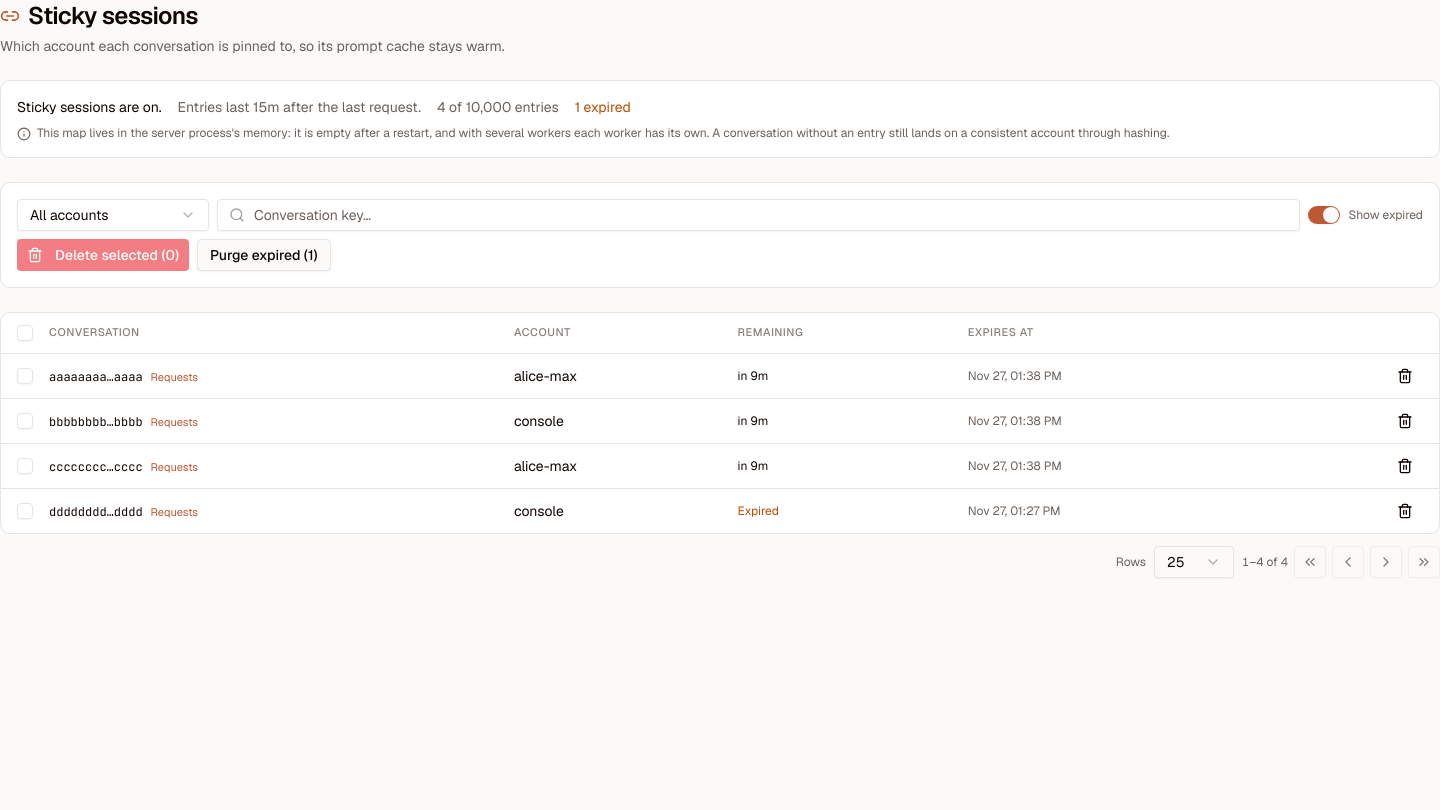
StickySessionsPage › deletes one entry after confirmation
Expected: the table with test id "sticky-table" is shown, [1,313,1439,532]
Click the button named "Delete bbbbbbbb…bbbb" at (1405,420), box [1387,406,1423,434]
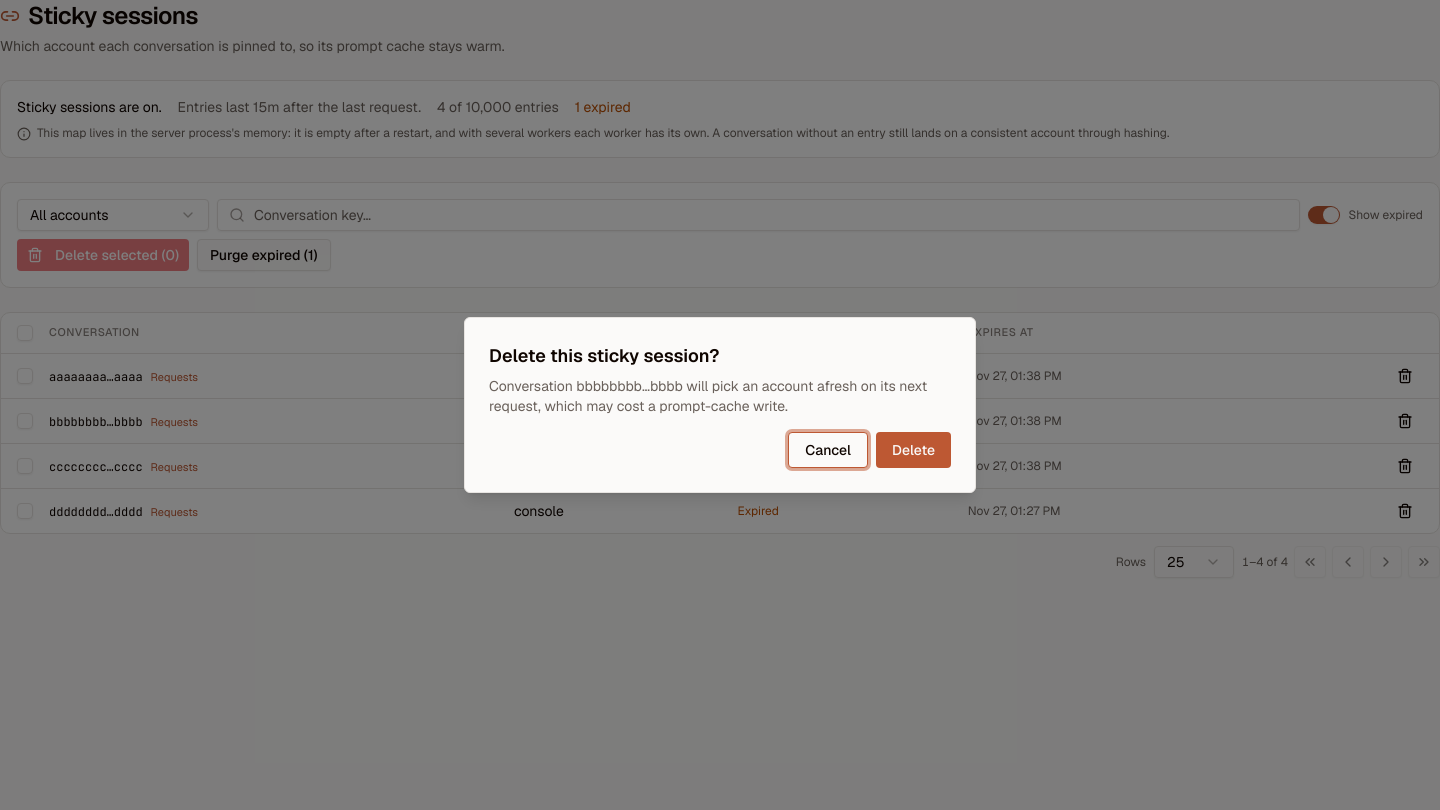
Click the button "Delete" at (913,450), box [876,432,951,468]
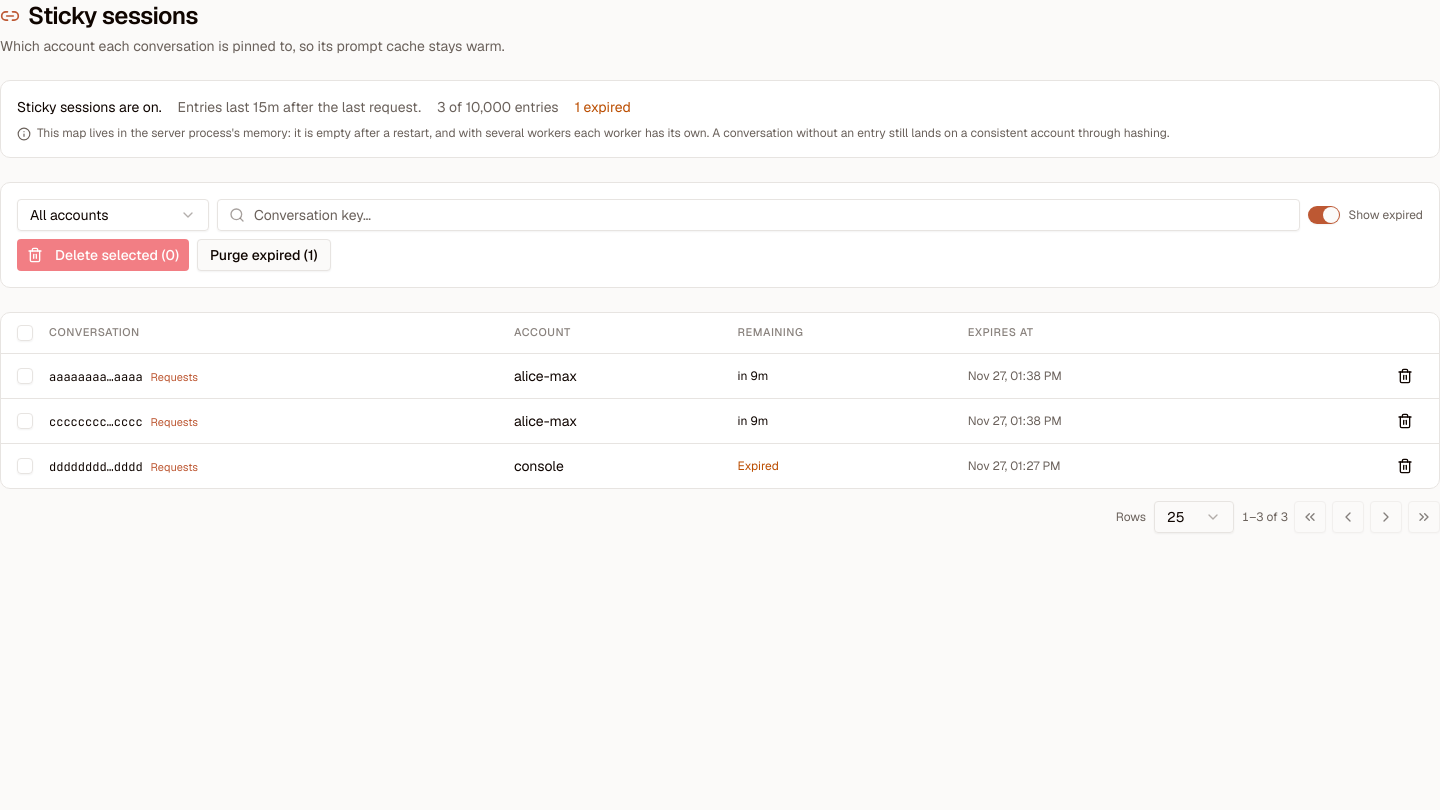
Expected: the dialog is gone
Expected: the row with test id "sticky-row-bbbbbbbb…bbbb" is gone
